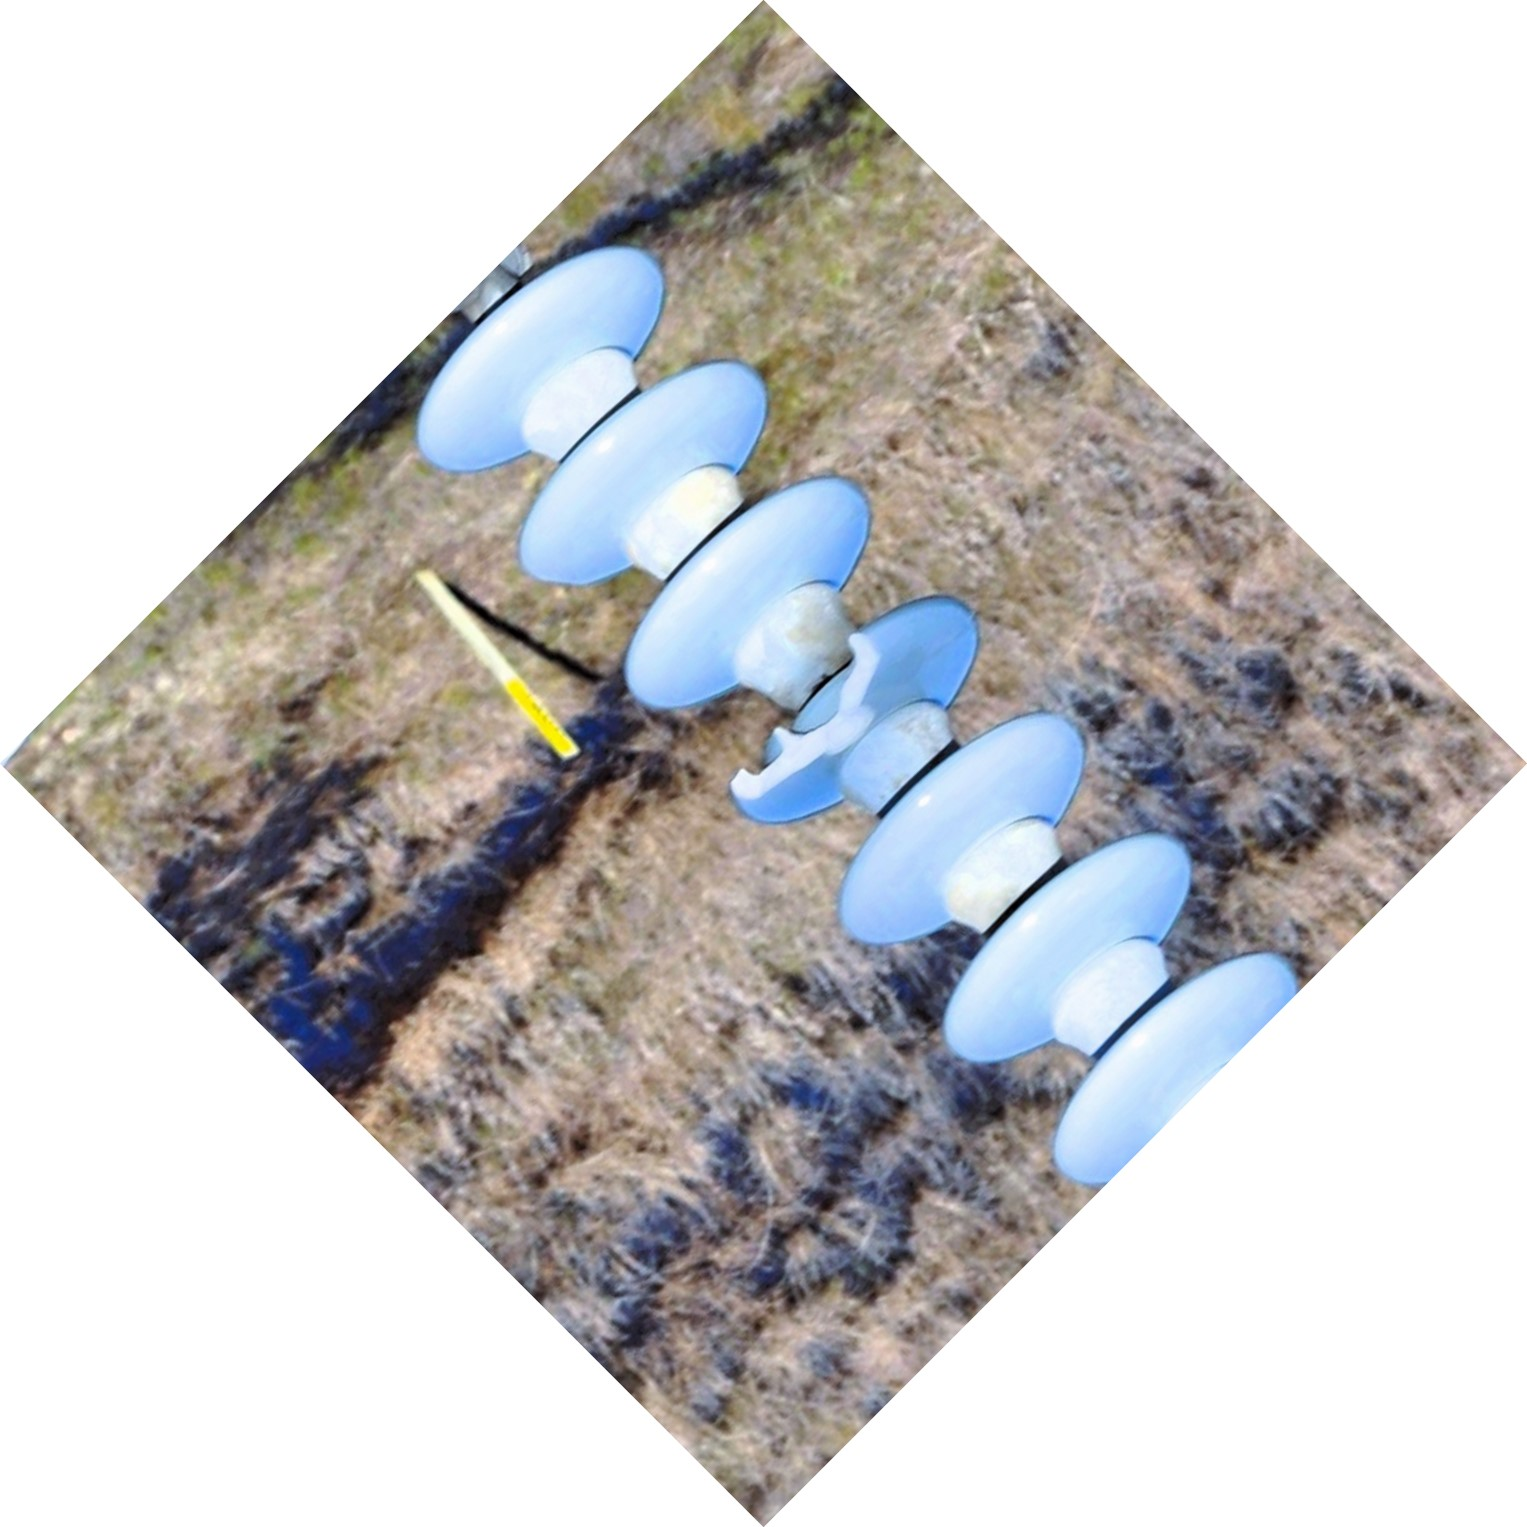insulator breakage: (726, 589, 991, 828)
